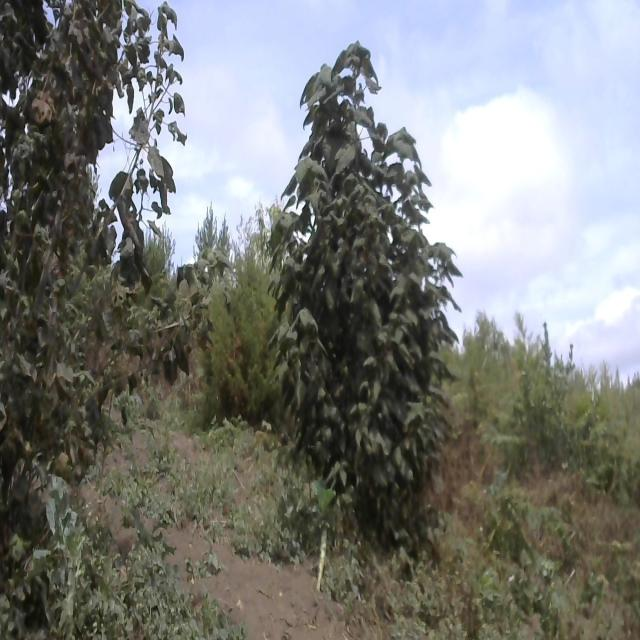cedrus: (203, 248, 280, 428)
other: (0, 0, 188, 509), (281, 34, 458, 536)
